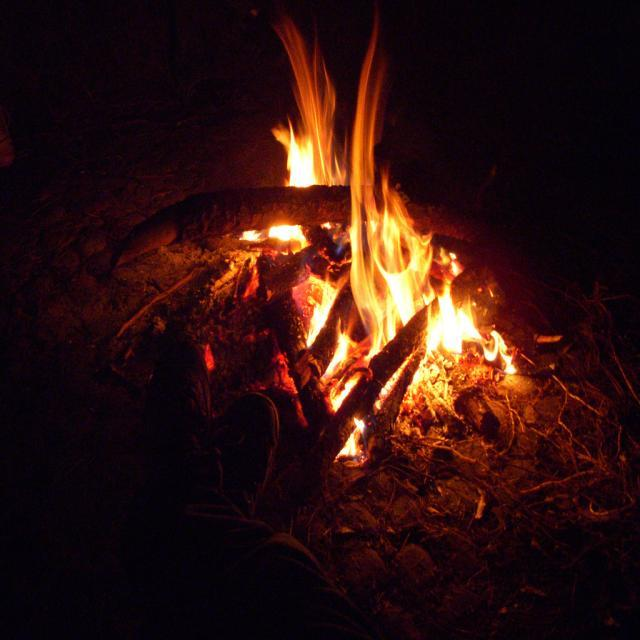Fire: (349, 166, 435, 346), (285, 65, 329, 207)
